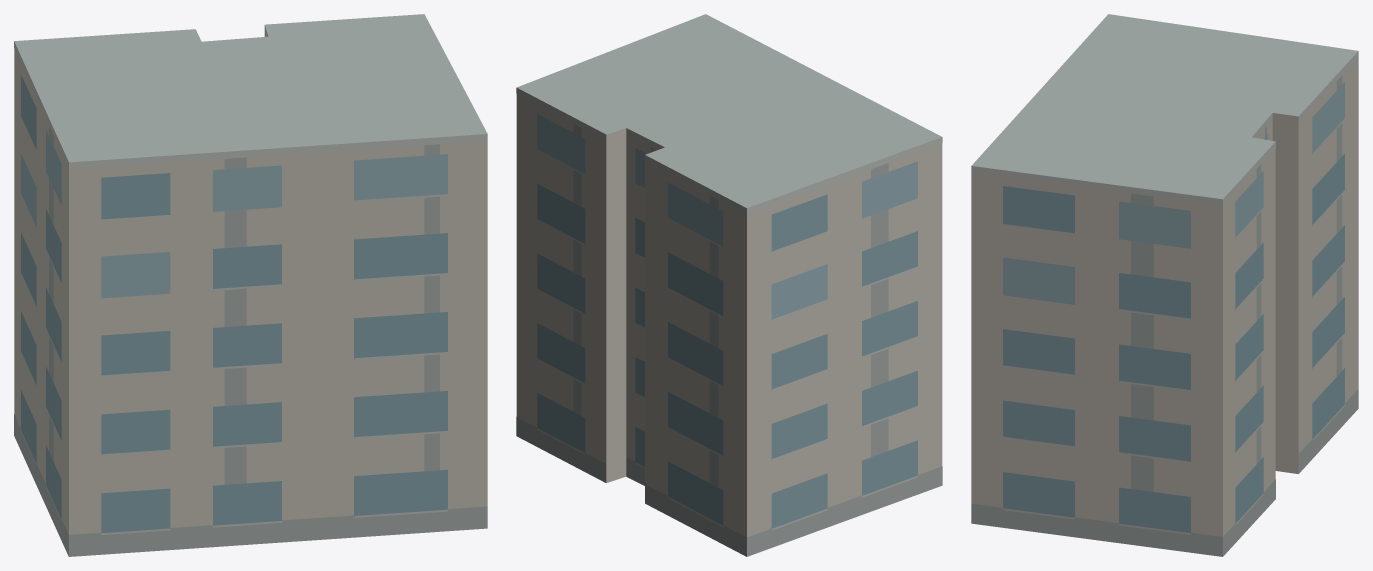
Rendered from survey-upis-32808011.glb.
3 views of the same model, side by side, from view 1: azimuth 30°, elevation 25°; view 2: azimuth 150°, elevation 25°; view 3: azimuth 270°, elevation 25° (orthographic). The views are drawn at different scales.
Visible parts, largest first — view 1: survey-upis-32808011.tmp; view 2: survey-upis-32808011.tmp; view 3: survey-upis-32808011.tmp.
Part boxes in pixels (x1,y1,x2,y2): survey-upis-32808011.tmp: (14, 14, 487, 556); survey-upis-32808011.tmp: (516, 14, 942, 556); survey-upis-32808011.tmp: (971, 14, 1358, 556).
Size of the model in its own units: 15 by 13.5 by 13.26.
